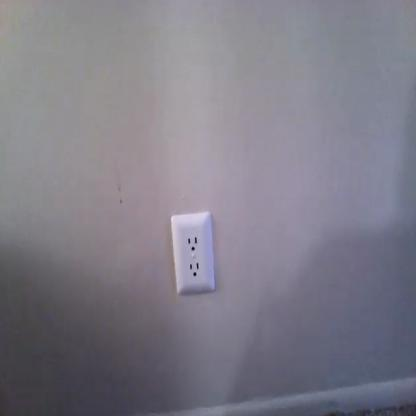OUTLET: (171, 214, 216, 294)
